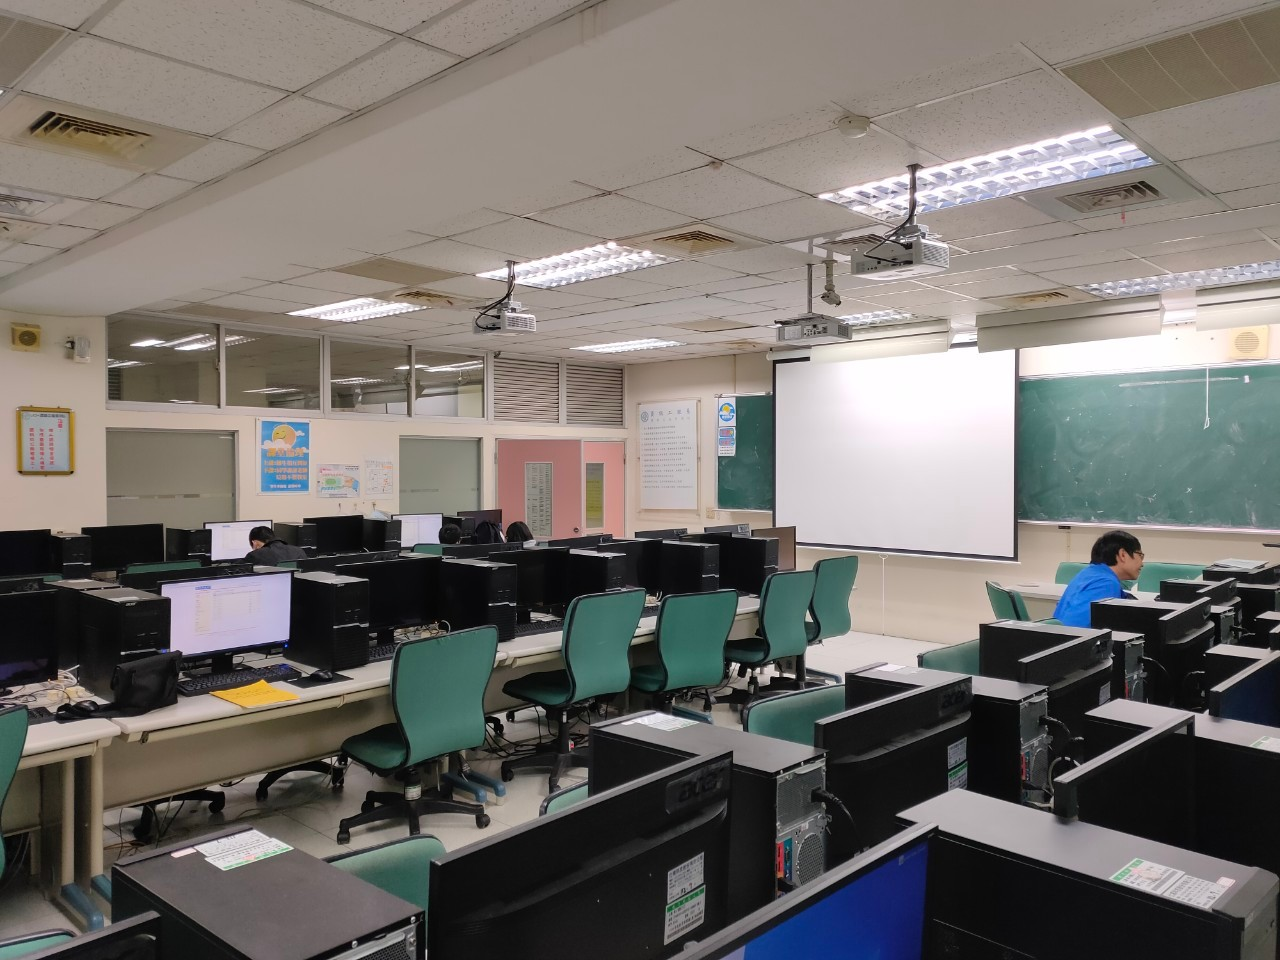people: (1038, 524, 1149, 640), (237, 524, 326, 567), (486, 517, 560, 553), (433, 511, 473, 551)
